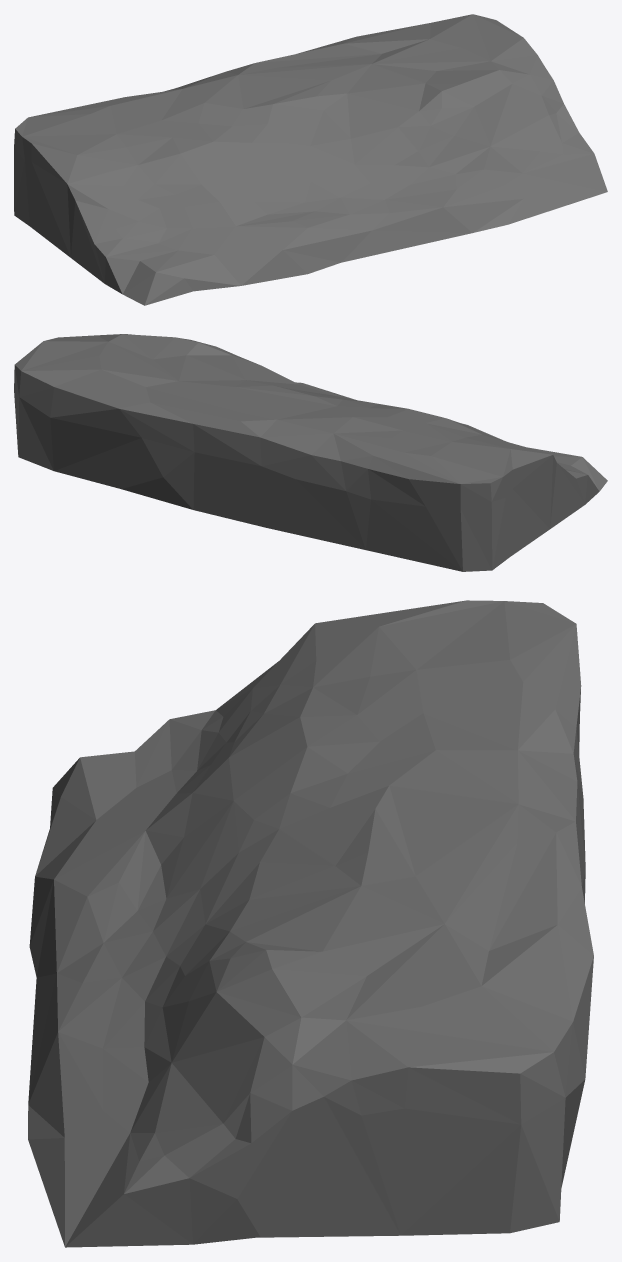
Rendered from SM_Gen_Env_Ground_River_Grass_01.glb.
The picture shows the model from 3 angles, top to bottom: view 1: azimuth 30°, elevation 25°; view 2: azimuth 150°, elevation 25°; view 3: azimuth 270°, elevation 25°; orthographic projection. The views are drawn at different scales.
Parts seen in each view (by area): view 1: SM_Gen_Env_Ground_River_Grass_01; view 2: SM_Gen_Env_Ground_River_Grass_01; view 3: SM_Gen_Env_Ground_River_Grass_01.
Boxes of the visible parts, x1,y1,x2,y2 form: SM_Gen_Env_Ground_River_Grass_01: (14,14,607,305); SM_Gen_Env_Ground_River_Grass_01: (14,334,607,571); SM_Gen_Env_Ground_River_Grass_01: (28,600,593,1247).
Bounding box in the file's own units: 9.78 × 1.92 × 4.97.
Materials: 1 (1 with a texture image).
